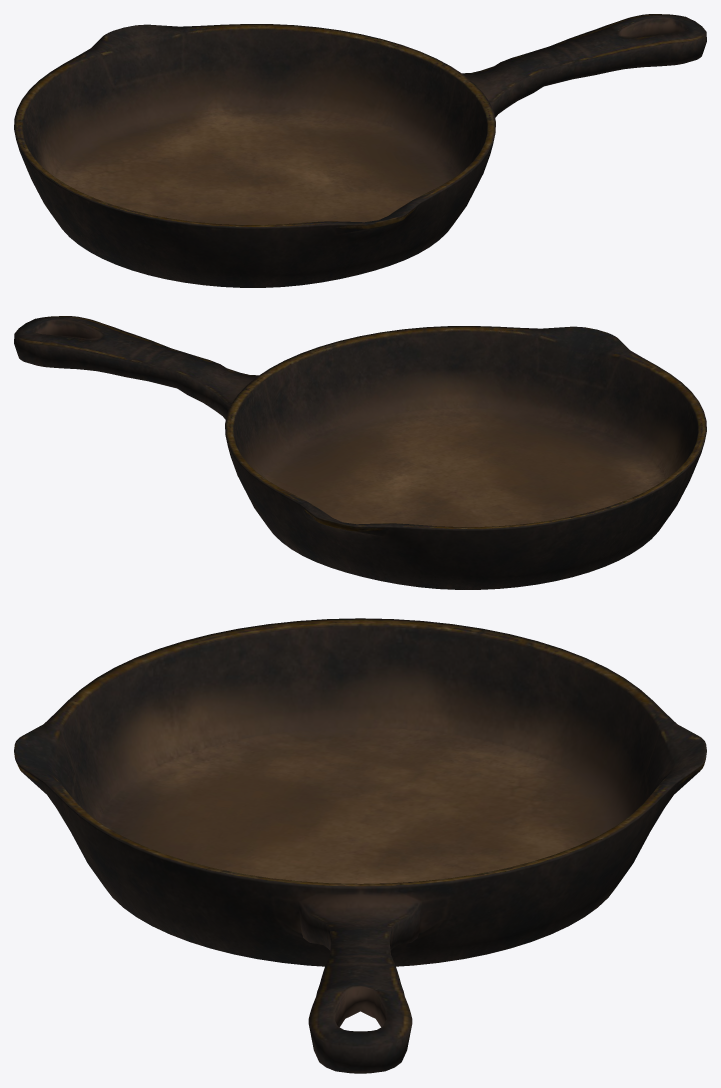
File: FryingPan.fbx
3 views of the same model, one above another, from view 1: azimuth 30°, elevation 25°; view 2: azimuth 150°, elevation 25°; view 3: azimuth 270°, elevation 25° (orthographic). The views are drawn at different scales.
Visible parts, largest first — view 1: Circle.001; view 2: Circle.001; view 3: Circle.001.
Boxes of the visible parts, x1,y1,x2,y2 form: Circle.001: (14, 14, 706, 287); Circle.001: (14, 316, 706, 589); Circle.001: (14, 618, 706, 1073).
Bounding box in the file's own units: 200 × 24.28 × 139.
